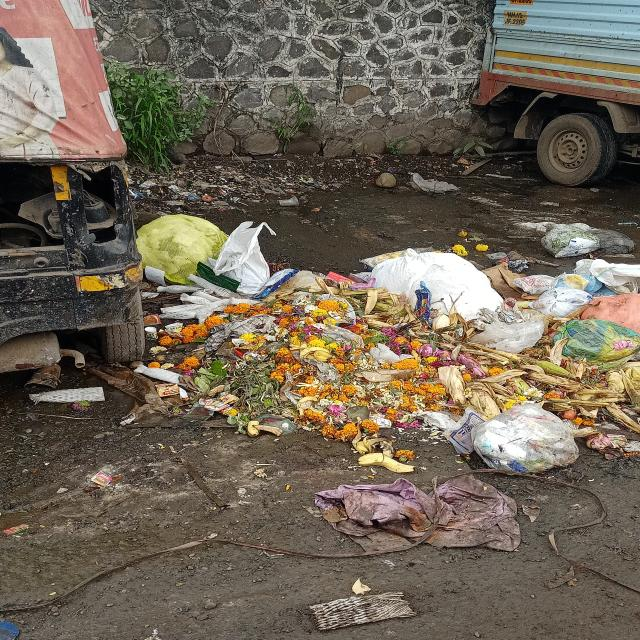garbage: (153, 217, 640, 545)
